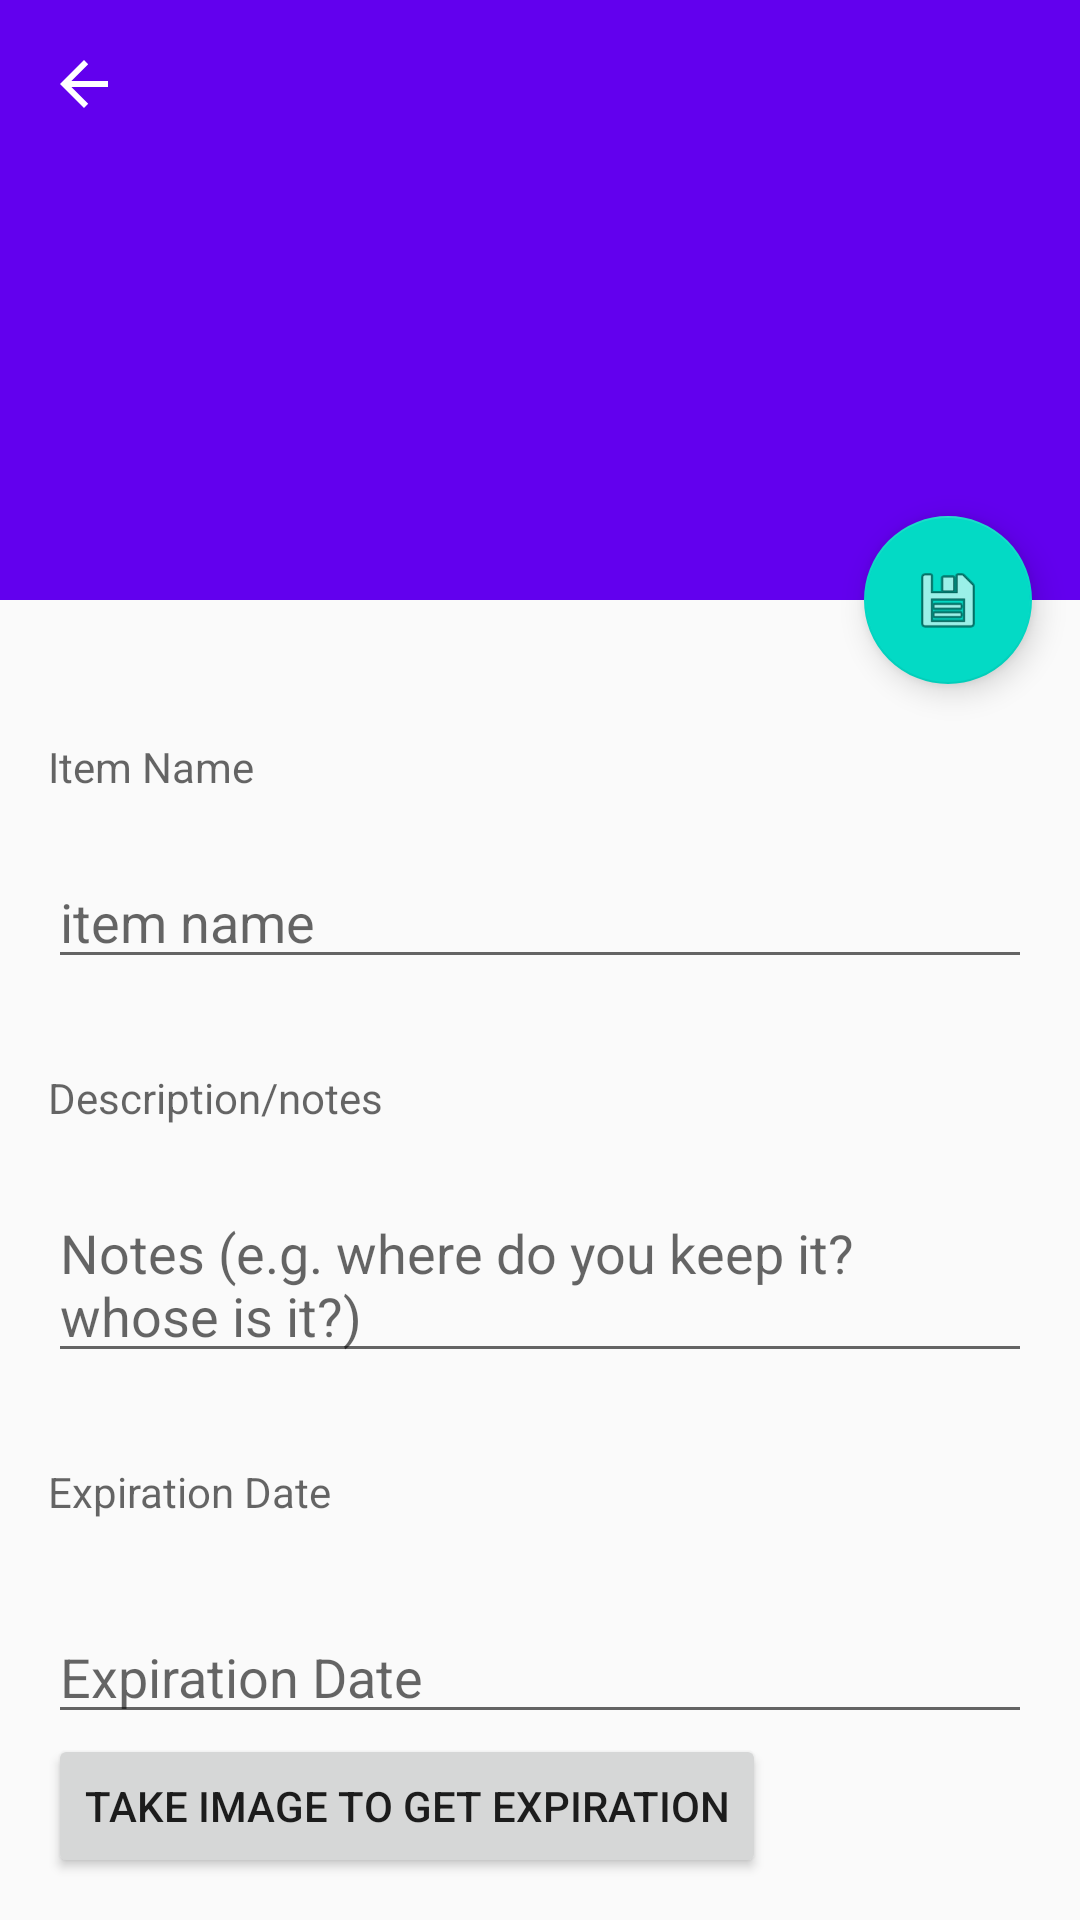

Icons on this 1080px x 1920px Android screen, each with the point to tap as (x,y):
save: (948,600)
